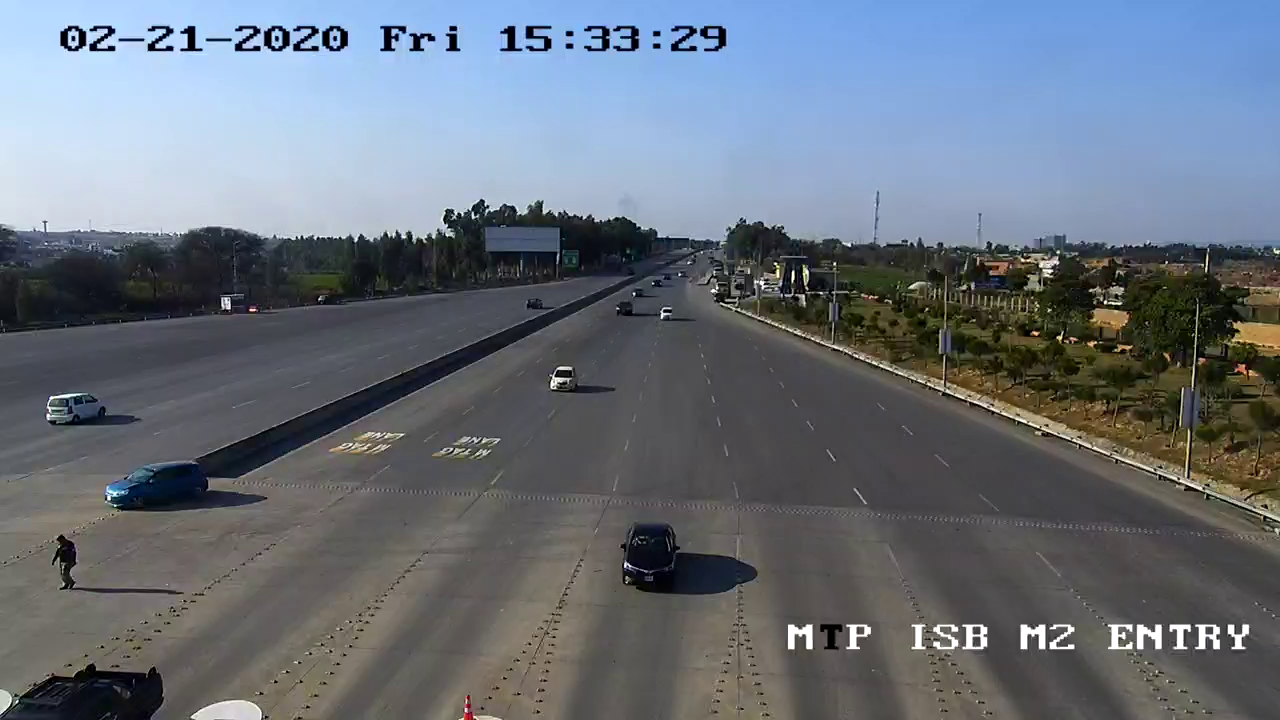f1: (602, 511, 700, 601), (539, 357, 586, 401)
